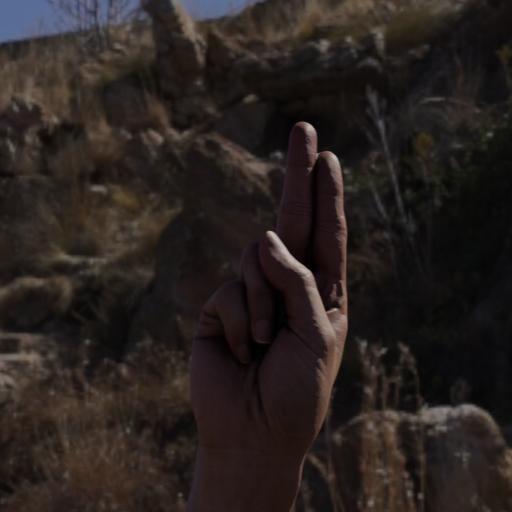U: (176, 113, 359, 446)
